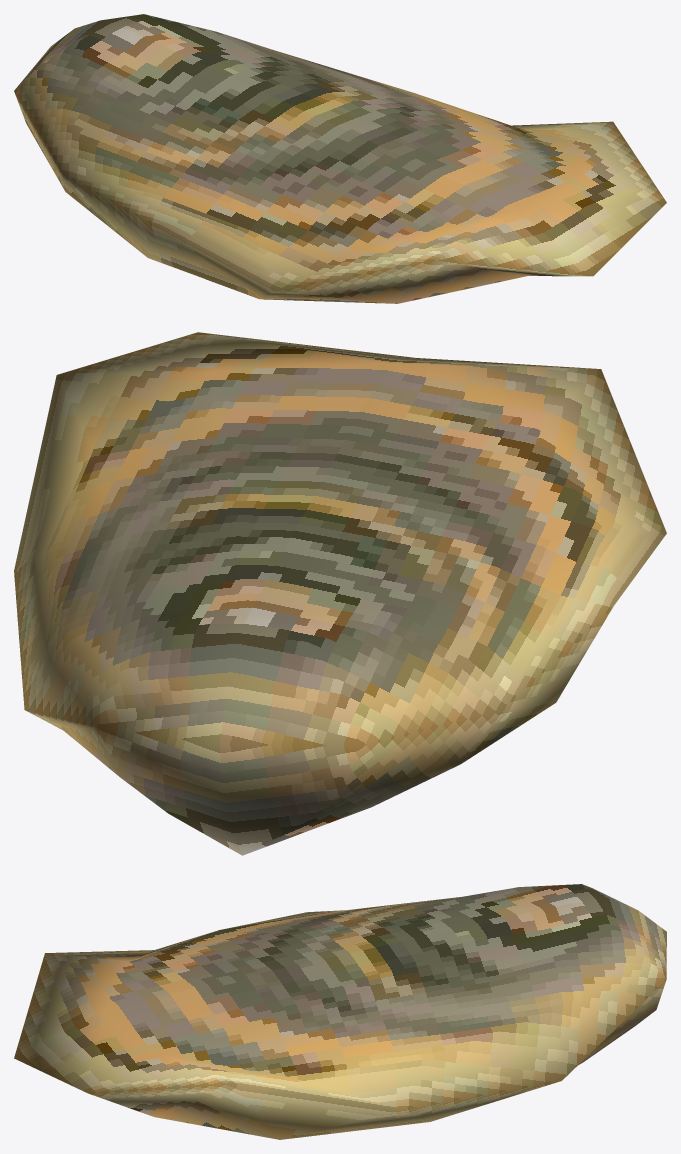
Rendered from int_shl_kaki.dae.
3 views of the same model, one above another, from view 1: azimuth 30°, elevation 25°; view 2: azimuth 150°, elevation 25°; view 3: azimuth 270°, elevation 25° (orthographic). The views are drawn at different scales.
Parts seen in each view (by area): view 1: int_shl_kaki; view 2: int_shl_kaki; view 3: int_shl_kaki.
Boxes of the visible parts, <box> form: int_shl_kaki: <box>14,14,666,303</box>; int_shl_kaki: <box>14,332,666,855</box>; int_shl_kaki: <box>14,884,666,1139</box>.
Size of the model in its own units: 13.95 by 4.72 by 19.12.
Materials: 1 (1 with a texture image).
